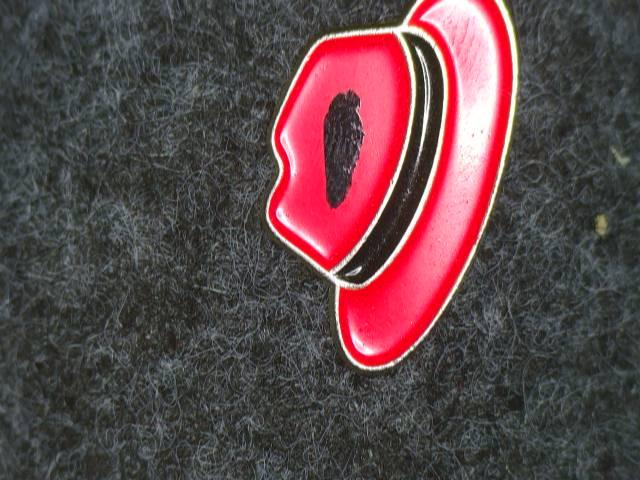Red-Hat: (243, 0, 548, 404)
Scratch: (305, 72, 384, 220)
